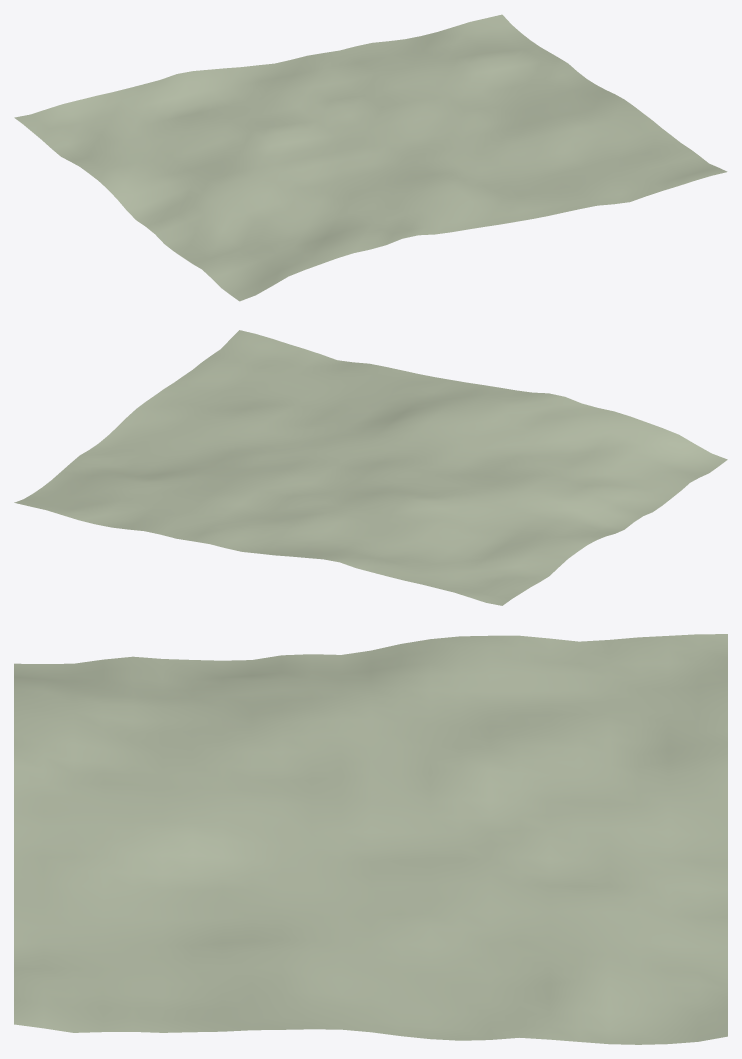
The picture shows the model from 3 angles, top to bottom: view 1: azimuth 30°, elevation 25°; view 2: azimuth 150°, elevation 25°; view 3: azimuth 270°, elevation 25°; orthographic projection. The views are drawn at different scales.
Visible parts, largest first — view 1: world-ground/60-72; view 2: world-ground/60-72; view 3: world-ground/60-72.
Boxes of the visible parts, x1,y1,x2,y2 form: world-ground/60-72: (14, 14, 727, 301); world-ground/60-72: (14, 330, 727, 605); world-ground/60-72: (14, 634, 727, 1044).
Bounding box in the file's own units: 37.5 × 1.87 × 30.
